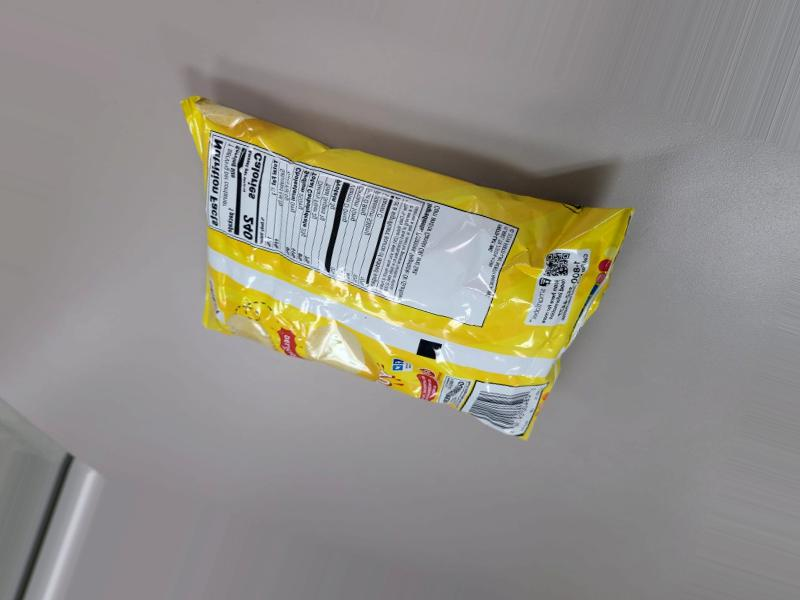lays: (202, 120, 574, 407)
